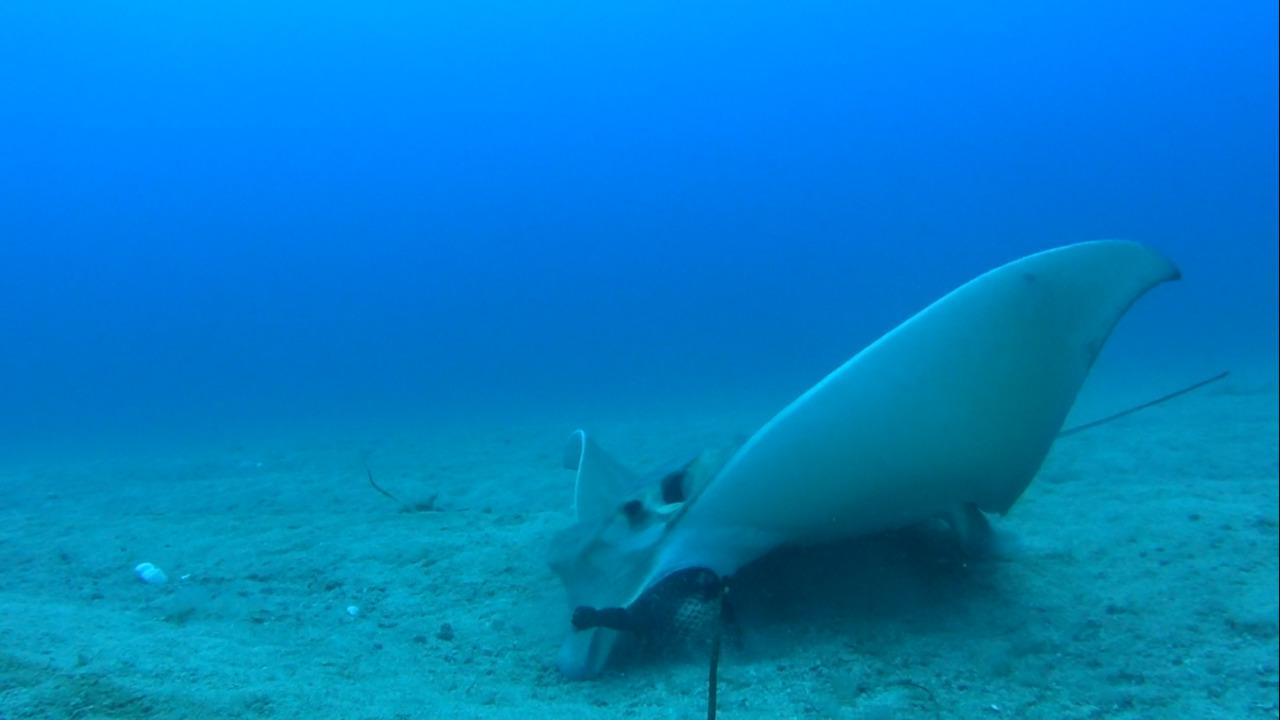myliobatis: (547, 228, 1247, 687)
